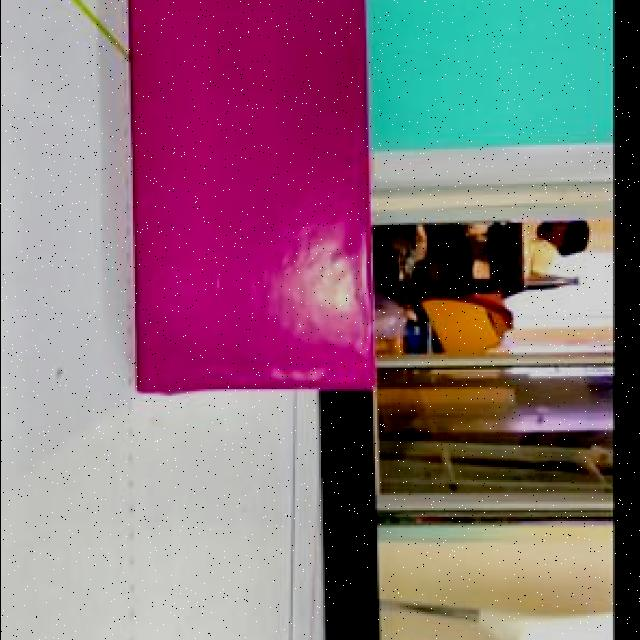xparking: (134, 0, 366, 389)
